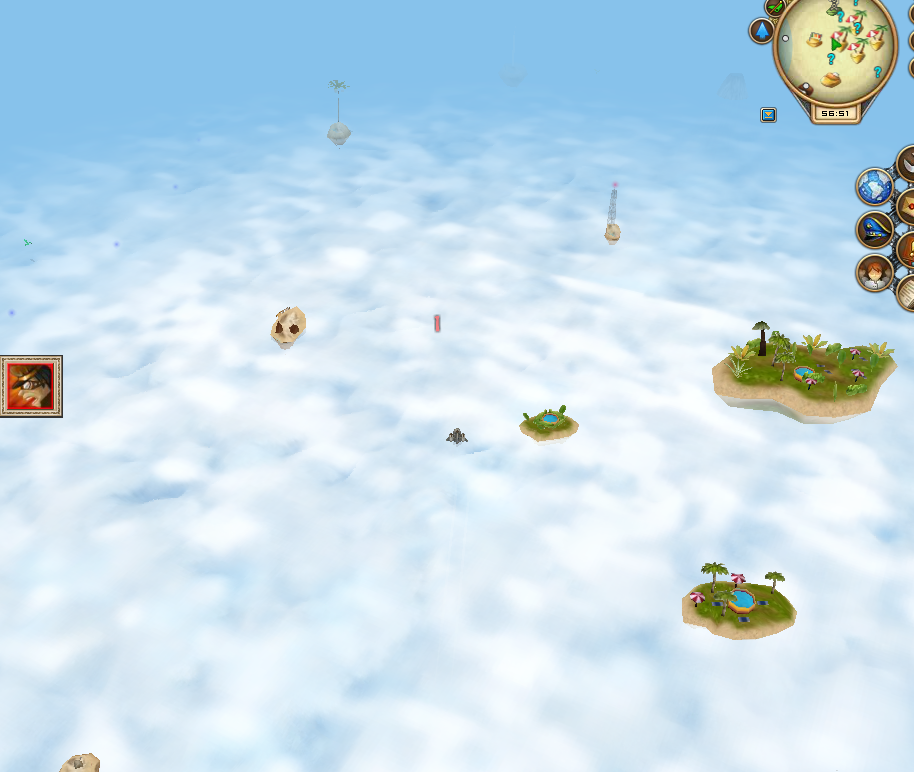palm: (320, 75, 356, 146)
